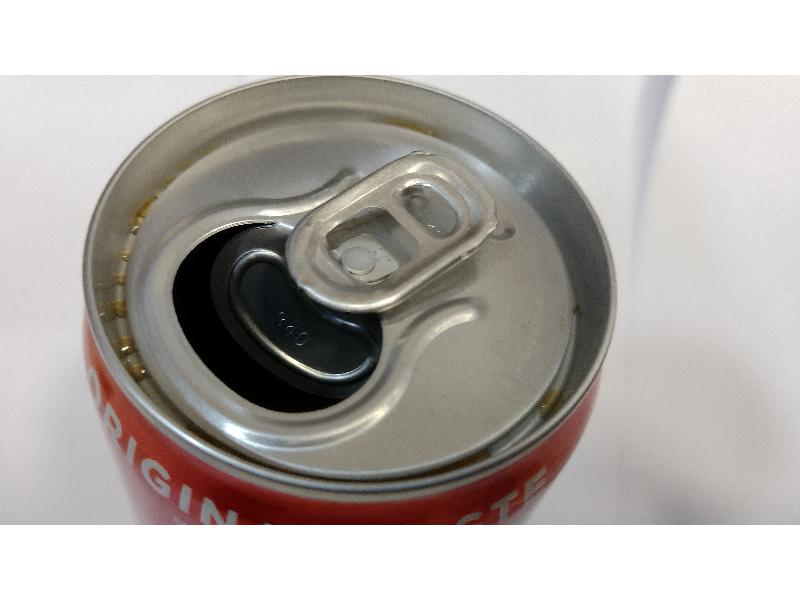can: (72, 72, 620, 523)
